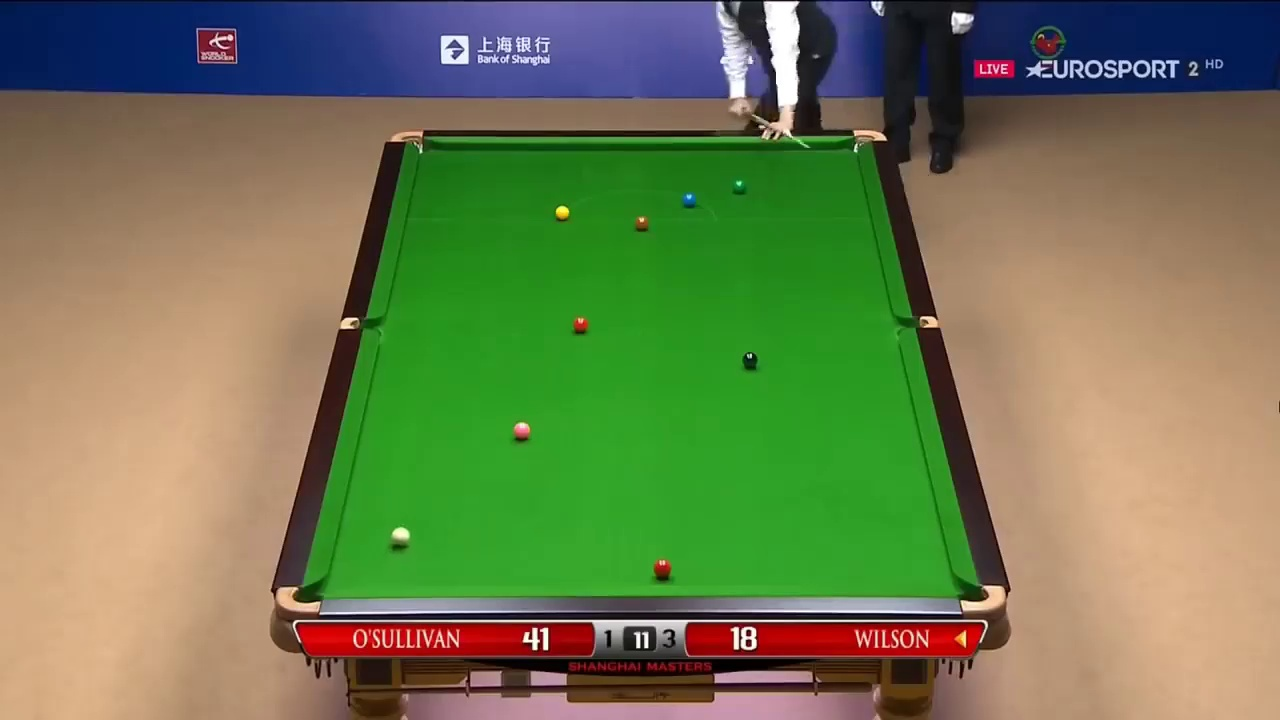ball: (389, 523, 412, 543), (510, 421, 533, 439), (654, 558, 672, 578), (633, 211, 650, 230), (730, 178, 750, 193), (742, 349, 757, 367), (681, 190, 697, 206), (554, 206, 569, 220), (573, 319, 589, 332)
